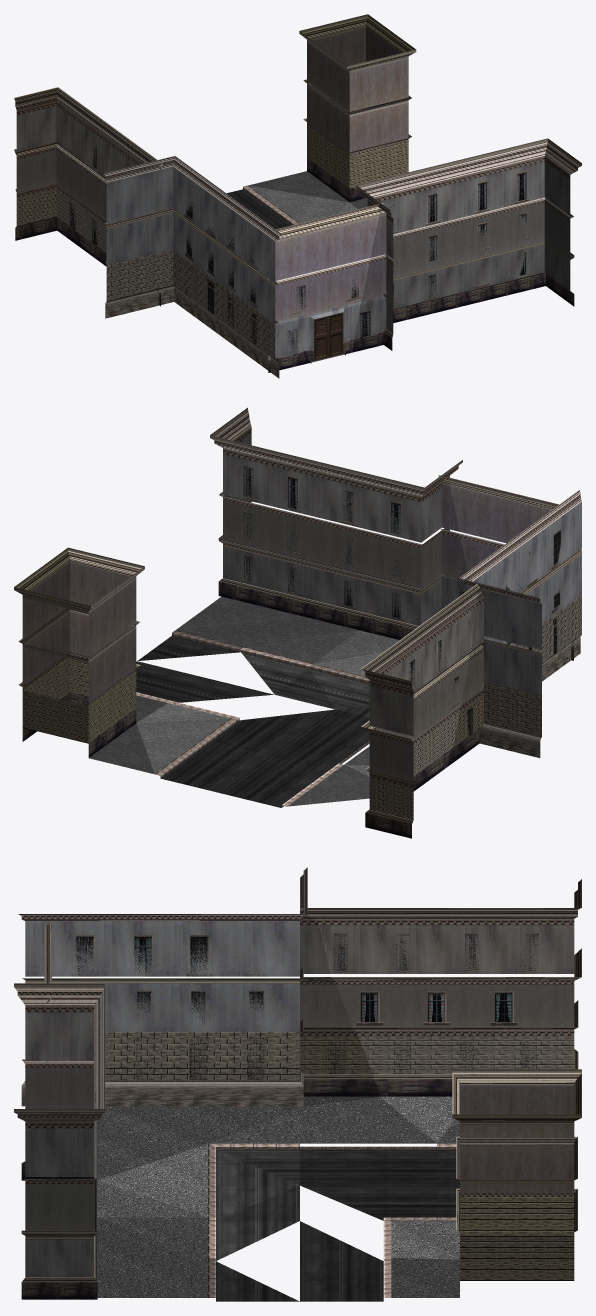
File: primary_152.glb
3 renders of one model, top to bottom at view 1: azimuth 30°, elevation 25°; view 2: azimuth 150°, elevation 25°; view 3: azimuth 270°, elevation 25°, orthographic. The views are drawn at different scales.
Parts seen in each view (by area): view 1: Object; view 2: Object; view 3: Object.
Boxes of the visible parts, left/top/right/bottom form: Object: left=14, top=14, right=581, bottom=378; Object: left=14, top=407, right=581, bottom=838; Object: left=14, top=867, right=581, bottom=1301.
Size of the model in its own units: 31.1 by 11.84 by 30.9.
Materials: 267 (267 with a texture image).
